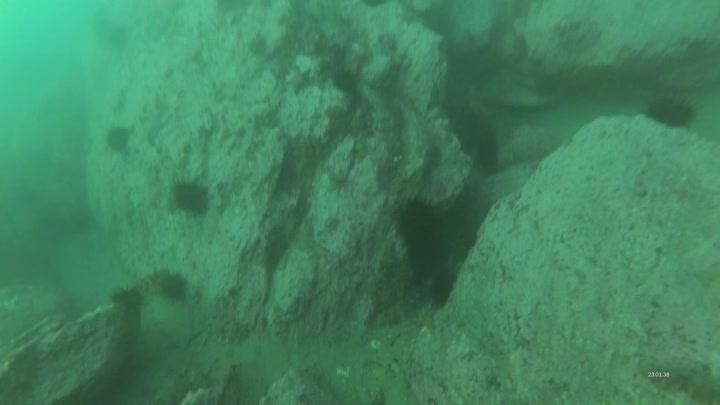echinus: (393, 195, 449, 262), (644, 94, 697, 131), (168, 177, 212, 217), (426, 266, 460, 309), (108, 284, 147, 316), (157, 271, 191, 304), (103, 124, 134, 155), (329, 67, 361, 96)
holothurian: (198, 315, 249, 346)
starfish: (282, 64, 315, 95)
